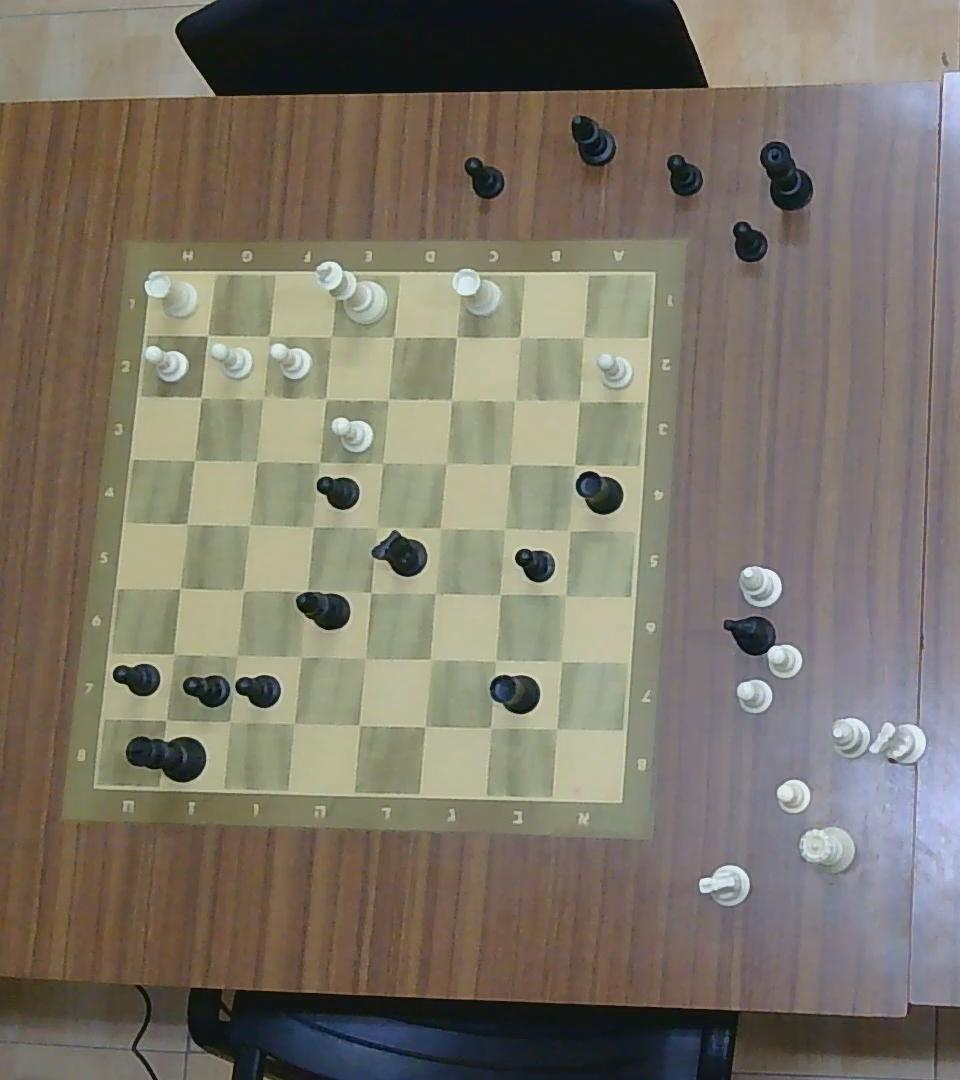xcorner: (160, 639, 190, 666), (541, 719, 575, 740), (370, 446, 394, 474), (150, 706, 176, 730), (476, 715, 503, 738), (546, 651, 575, 671), (186, 383, 210, 407), (435, 393, 465, 412), (413, 649, 438, 671), (317, 327, 343, 348), (420, 580, 443, 603), (244, 447, 266, 471), (174, 512, 198, 534), (299, 511, 321, 535), (488, 584, 512, 606), (230, 578, 255, 599), (315, 387, 341, 407), (496, 518, 522, 538), (260, 323, 283, 345), (168, 575, 190, 598), (554, 519, 578, 540), (348, 648, 372, 669), (247, 387, 273, 406), (446, 323, 467, 346), (362, 582, 385, 603), (416, 715, 437, 738), (236, 514, 260, 534), (482, 650, 506, 670), (227, 643, 246, 668), (305, 450, 326, 472), (289, 646, 310, 668), (435, 455, 458, 475), (508, 329, 534, 346), (181, 449, 202, 469), (498, 455, 520, 474), (380, 326, 401, 345), (347, 716, 370, 733), (377, 388, 396, 408), (282, 712, 302, 731), (563, 454, 584, 472), (200, 324, 216, 347), (571, 392, 590, 411), (432, 517, 451, 536), (553, 584, 573, 602), (575, 327, 594, 345), (503, 390, 522, 408), (366, 517, 383, 537), (219, 713, 237, 731), (295, 583, 312, 599)
